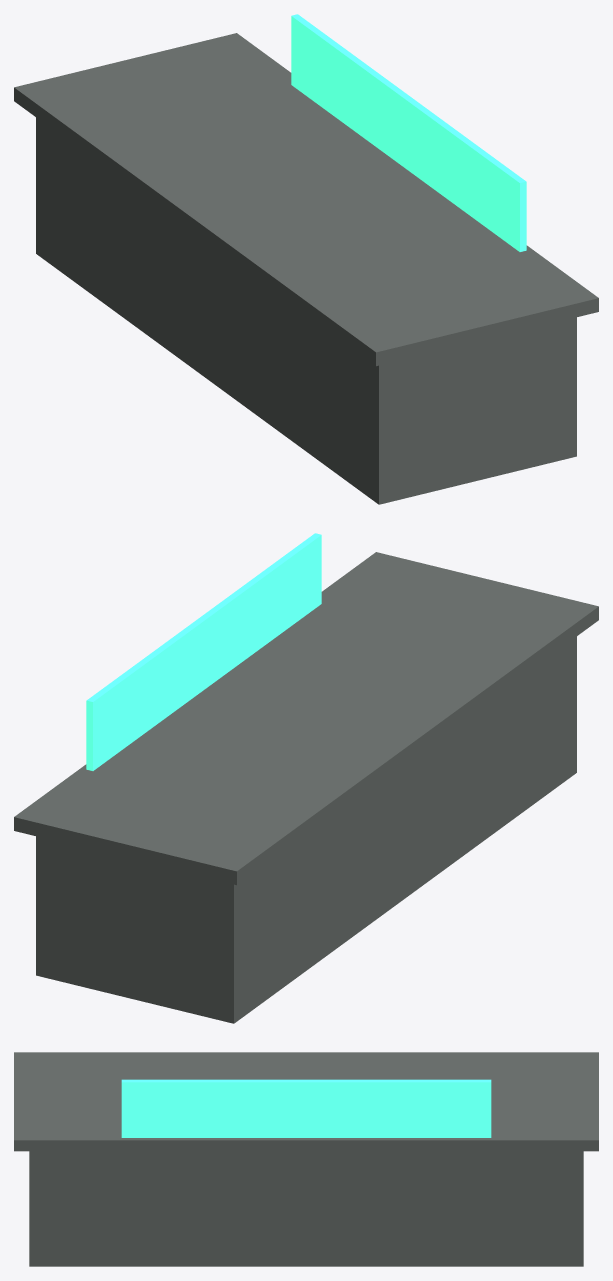
Rendered from lab-console.glb.
3 views of the same model, one above another, from view 1: azimuth 30°, elevation 25°; view 2: azimuth 150°, elevation 25°; view 3: azimuth 270°, elevation 25° (orthographic). The views are drawn at different scales.
Visible parts, largest first — view 1: LabConsole; view 2: LabConsole; view 3: LabConsole.
Boxes of the visible parts, x1,y1,x2,y2 form: LabConsole: (14, 14, 598, 504); LabConsole: (14, 533, 598, 1023); LabConsole: (14, 1052, 598, 1266).
Size of the model in its own units: 1.35 by 1.34 by 3.8.
